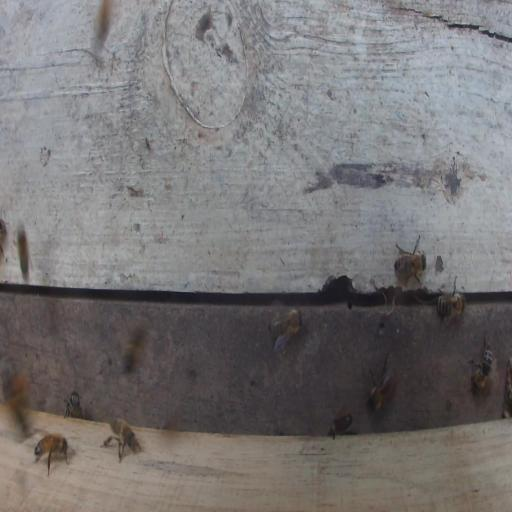bee: (394, 234, 428, 288), (367, 351, 397, 411), (105, 415, 140, 463), (269, 306, 304, 354), (33, 432, 69, 476), (436, 276, 466, 326), (1, 356, 30, 407), (468, 334, 492, 390), (121, 325, 146, 373), (14, 224, 29, 280), (327, 408, 354, 437), (96, 1, 111, 45), (64, 391, 82, 419)
